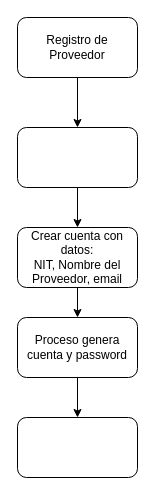
The diagram is 155 pixels wide and 495 high, and some of its shapes have lost their labels. The box of each missing label's shape, as (x1, y1, x2, y2) in pixels:
Ingresa al sitio web https: (16, 126, 138, 188)
Proveedor completas solicitud y puede ver solicitudes: (16, 416, 138, 478)
